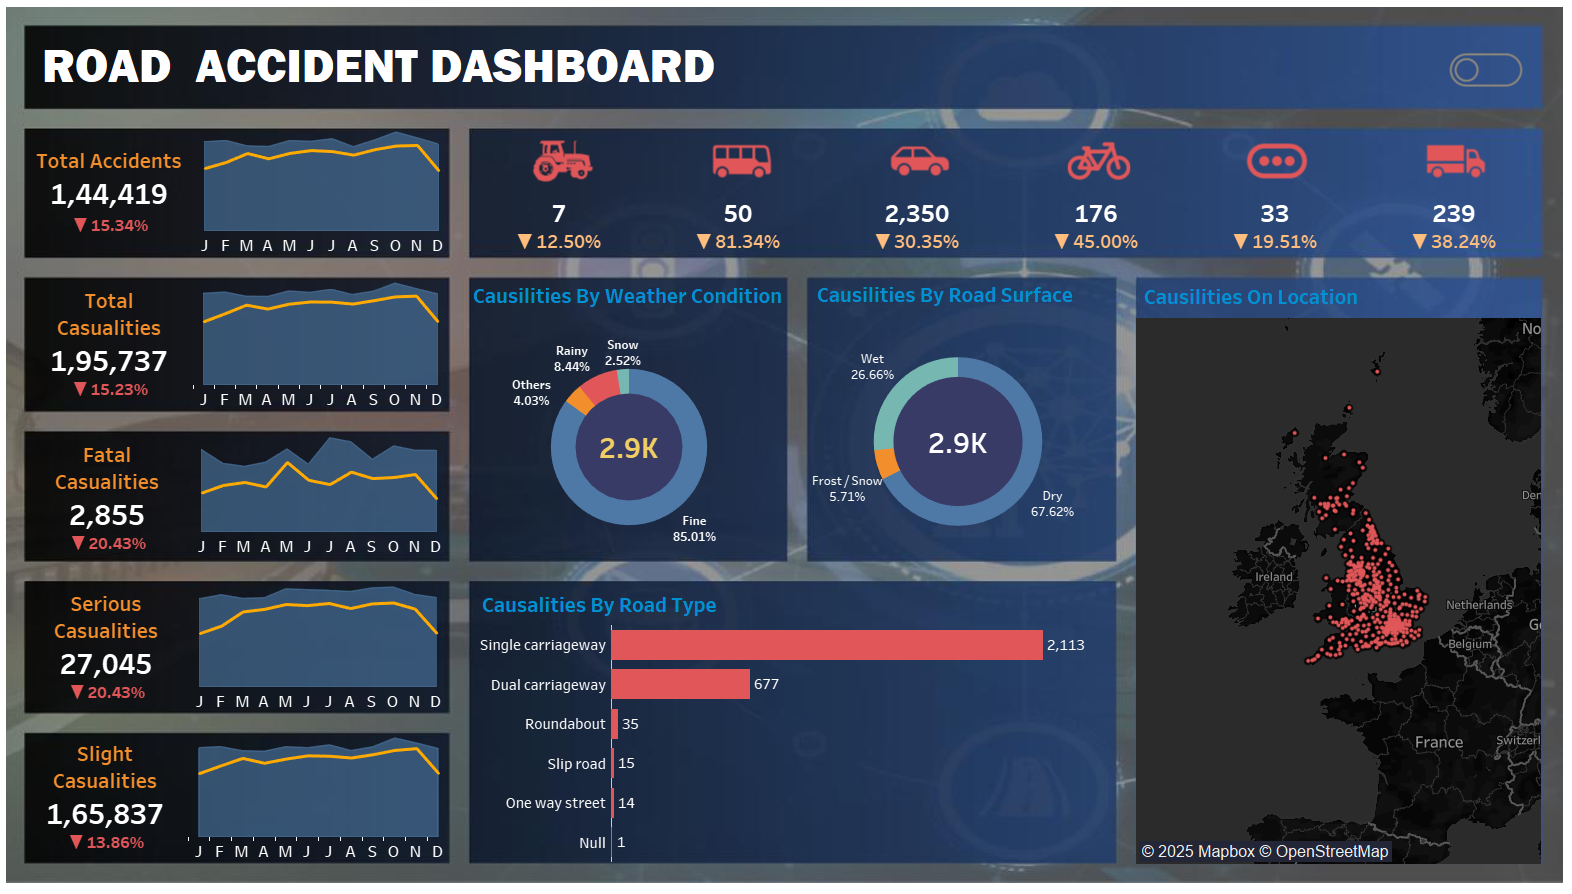

The page's visual inventory and layout, read from the dashboard file:
{"tool":"tableau","page":{"name":"Accident Dashboard","canvas":[1600,900],"ordinal":0},"visuals":[{"type":"image","param":"C:/Users/mukul/Desktop/PICS/AccBackground.pptx.jpg","box":[8,8,1584,884]},{"type":"text","box":[53,15,923,111]},{"type":"parameter","param":"[Parameters].[Parameter 1]","box":[796,39,217.7,62]},{"type":"parameter","param":"[Parameters].[Current Year (copy)_2304717118035132418]","box":[1013.7,39,217.7,62]},{"type":"parameter","param":"[Parameters].[Parameter 2]","box":[1231.3,39,217.7,62]},{"type":"dashboard-object","box":[1463,45,75,59]},{"type":"worksheet","title":"Total Acc Sparkline","mark":"Automatic","rows":["current year acc (copy)_2304717118036639748","Calculation_2304717118035324931"],"cols":["Accident Date"],"box":[209,132,255,130]},{"type":"worksheet","title":"Total Accidents","mark":"Automatic","box":[42,133,164,128]},{"type":"worksheet","title":"Vehicle Type Images","mark":"Shape","box":[489,133,1071,66]},{"type":"worksheet","title":"Vehicle Type KPI","mark":"Automatic","box":[484,199,1075,61]},{"type":"worksheet","title":"Total Casualities Sparkline","mark":"Automatic","rows":["current year casualities (copy)_2304717118042062856","Calculation_2304717118041169927"],"cols":["Accident Date"],"box":[208,283,255,133]},{"type":"worksheet","title":"Total Casualities","mark":"Automatic","box":[43,284,162,129]},{"type":"text","box":[828,284,292,30]},{"type":"text","box":[484,285,318,30]},{"type":"text","box":[1155,286,258,30]},{"type":"worksheet","title":"Road Surface","mark":"Pie","rows":["Calculation_1914029850408607745","Calculation_1914029850408665092"],"box":[826,319,294,255]},{"type":"worksheet","title":"By Location","mark":"Automatic","rows":["Latitude"],"cols":["Longitude"],"box":[1151,323,405,546]},{"type":"worksheet","title":"Weather Condition","mark":"Pie","rows":["Calculation_1914029850408607745","Calculation_1914029850408665092"],"box":[486,339,316,226]},{"type":"worksheet","title":"Fatal Casualities","mark":"Automatic","box":[40,438,163,130]},{"type":"worksheet","title":"Fatal Casualities Sparkline","mark":"Automatic","rows":["current year fatal (copy)_2304717118045655052","Calculation_2304717118044082187"],"cols":["Accident Date"],"box":[206,438,256,125]},{"type":"worksheet","title":"Serious Casualities","mark":"Automatic","box":[40,587,162,130]},{"type":"worksheet","title":"Serious Casualities Sparkline ","mark":"Automatic","rows":["prev year fatal  (copy)_2304717118046642191","current year fatal (copy)_2304717118046449678"],"cols":["Accident Date"],"box":[204,587,258,131]},{"type":"text","box":[493,591,293,36]},{"type":"worksheet","title":"Road Type","mark":"Automatic","rows":["Road_Type"],"cols":["Calculation_2304717118041169927"],"box":[486,630,640,237]},{"type":"worksheet","title":"Slight Casualities ","mark":"Automatic","box":[39,737,162,129]},{"type":"worksheet","title":"Slight Casualities Sparkline","mark":"Automatic","rows":["prev year serious (copy)_2304717118047801361","current year serious (copy)_2304717118047592464"],"cols":["Accident Date"],"box":[203,738,261,130]}]}

Visuals, with their boxes in screenshot pixels (x1, y1, x2, y2), scaled from the page's 1600x900 canvas onto the 1572x894 screenshot:
image: 8/8/1564/886
text: 52/15/959/125
parameter: 782/39/996/100
parameter: 996/39/1210/100
parameter: 1210/39/1424/100
dashboard-object: 1437/45/1511/103
"Total Acc Sparkline" worksheet: 205/131/456/260
"Total Accidents" worksheet: 41/132/202/259
"Vehicle Type Images" worksheet (Shape marks): 480/132/1533/198
"Vehicle Type KPI" worksheet: 476/198/1532/258
"Total Casualities Sparkline" worksheet: 204/281/455/413
"Total Casualities" worksheet: 42/282/201/410
text: 814/282/1100/312
text: 476/283/788/313
text: 1135/284/1388/314
"Road Surface" worksheet (Pie marks): 812/317/1100/570
"By Location" worksheet: 1131/321/1529/863
"Weather Condition" worksheet (Pie marks): 477/337/788/561
"Fatal Casualities" worksheet: 39/435/199/564
"Fatal Casualities Sparkline" worksheet: 202/435/454/559
"Serious Casualities" worksheet: 39/583/198/712
"Serious Casualities Sparkline " worksheet: 200/583/454/713
text: 484/587/772/623
"Road Type" worksheet: 477/626/1106/861
"Slight Casualities " worksheet: 38/732/197/860
"Slight Casualities Sparkline" worksheet: 199/733/456/862
